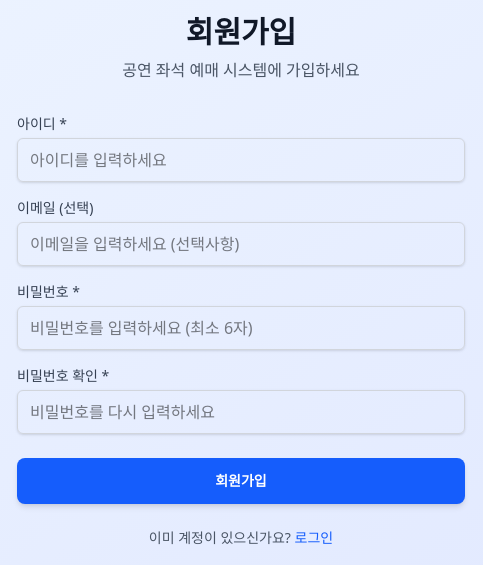
it: SignupPage Error Scenarios › Loading State Errors › should disable signup button when loading
The width and height of the screenshot is (483, 565).
Type "testuser" into the field with placeholder "아이디를 입력하세요".
click(241, 160); type("testuser")  # box [17,138,465,182]
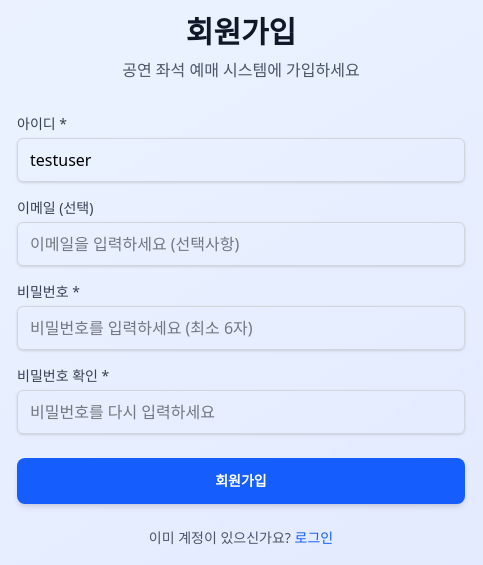
Type "password123" into the password field with placeholder "비밀번호를 입력하세요 (최소 6자)".
click(241, 328); type("password123")  # box [17,306,465,350]
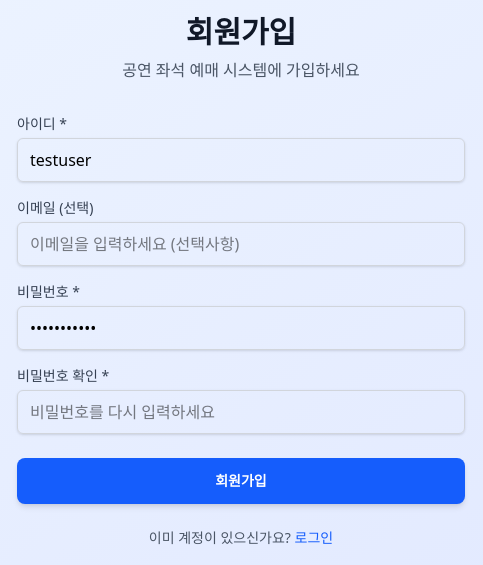
Type "password123" into the password field with placeholder "비밀번호를 다시 입력하세요".
click(241, 412); type("password123")  # box [17,390,465,434]
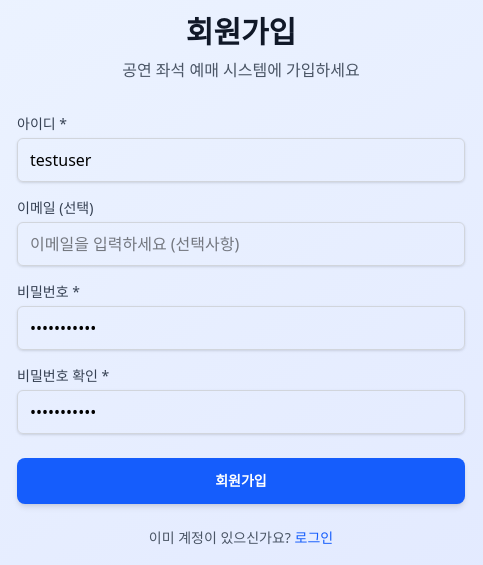
Submit the form
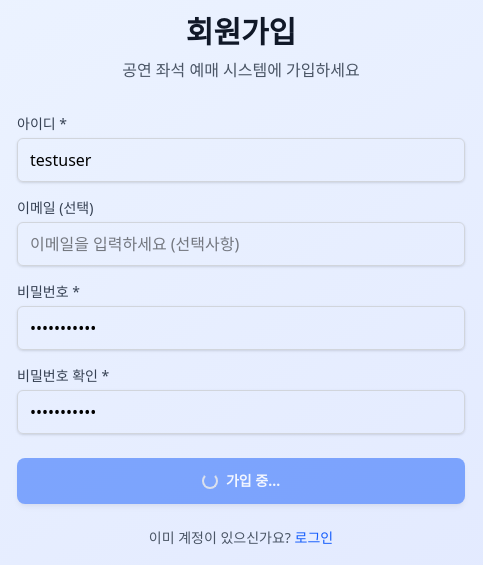
Result: the button "가입 중..." is disabled at [17,458,465,504]
